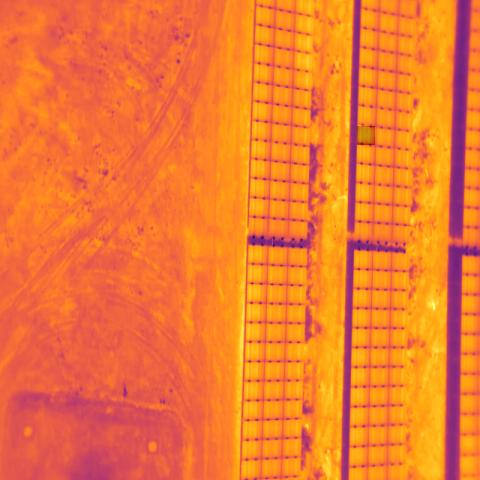fault: (357, 126, 375, 145)
